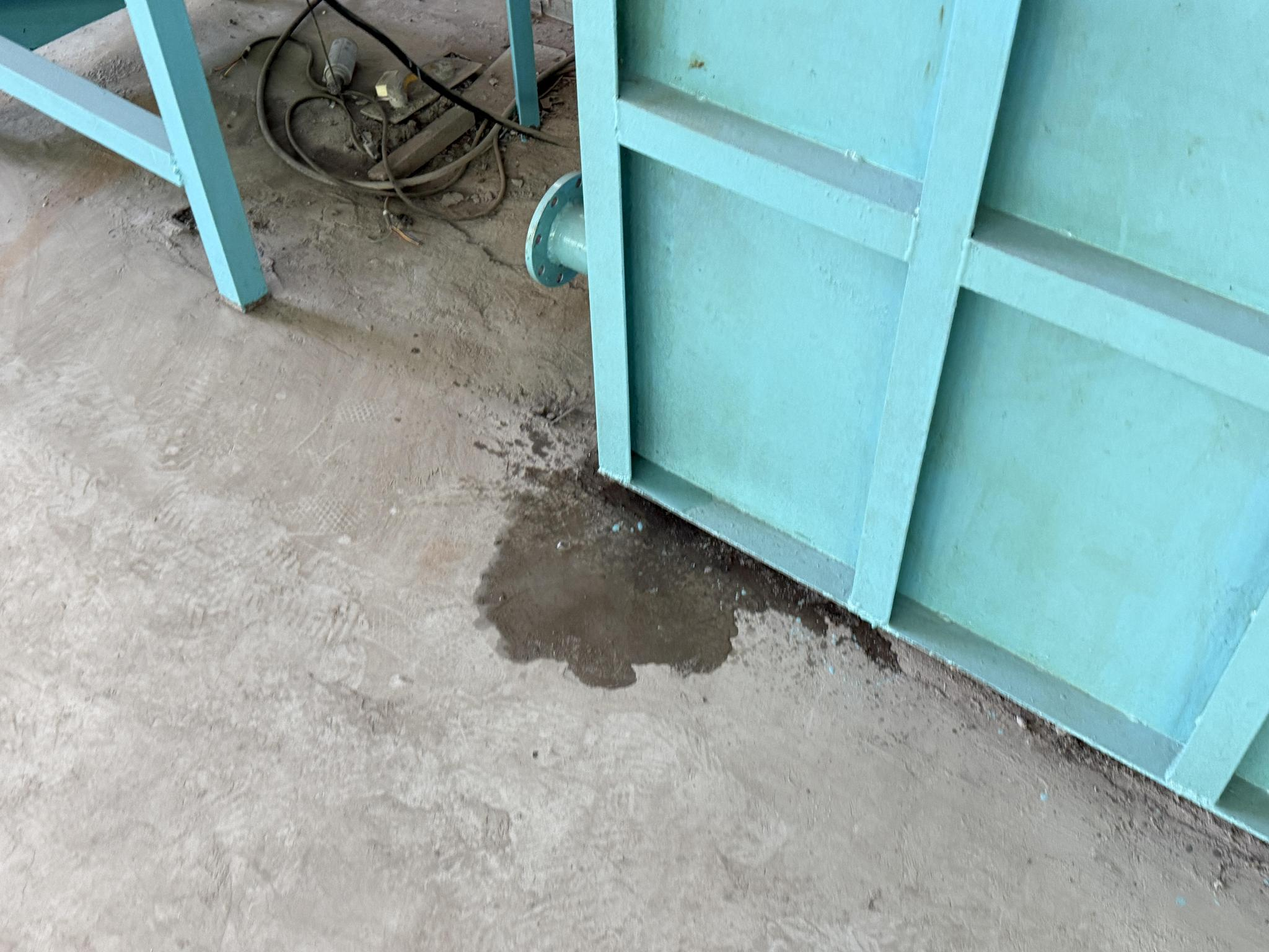water accumulation: (477, 460, 898, 688)
